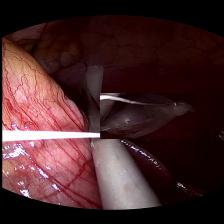Specimen Bag: (99, 94, 195, 140)
